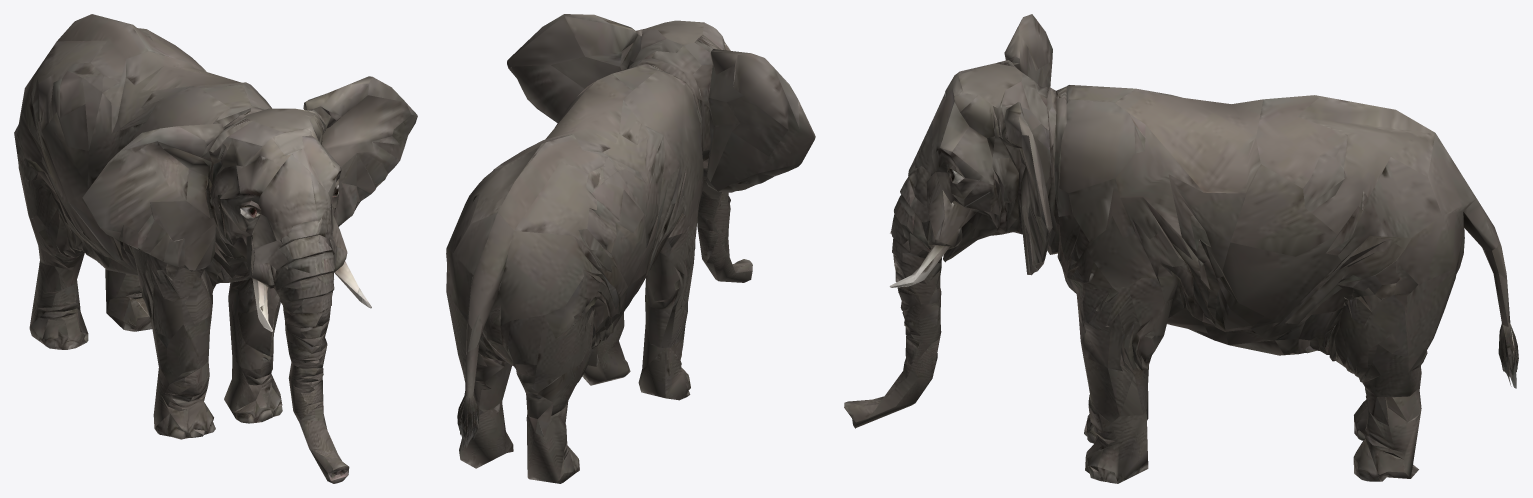
Rendered from elephant-lod.glb.
3 views of the same model, side by side, from view 1: azimuth 30°, elevation 25°; view 2: azimuth 150°, elevation 25°; view 3: azimuth 270°, elevation 25° (orthographic). The views are drawn at different scales.
Size of the model in its own units: 1.2 by 1.18 by 1.9.
1 material, 1 textured.
